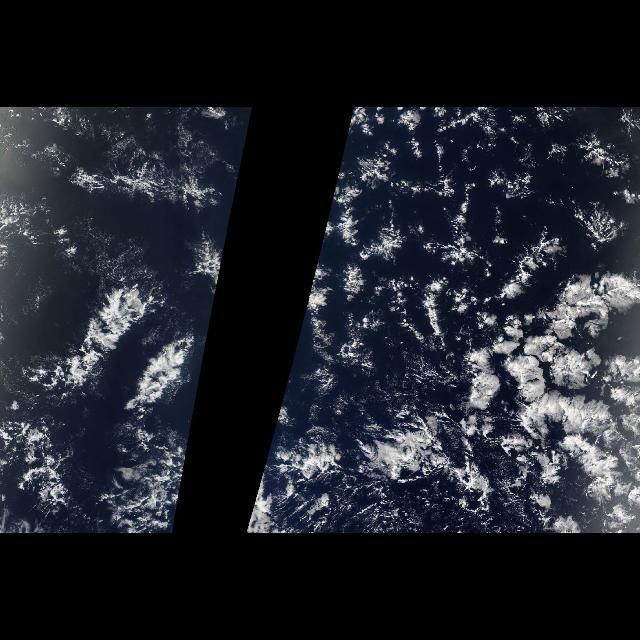Fish: (32, 146, 246, 420), (276, 206, 330, 420)
Flower: (469, 282, 637, 468)
Gravel: (278, 475, 534, 531)
